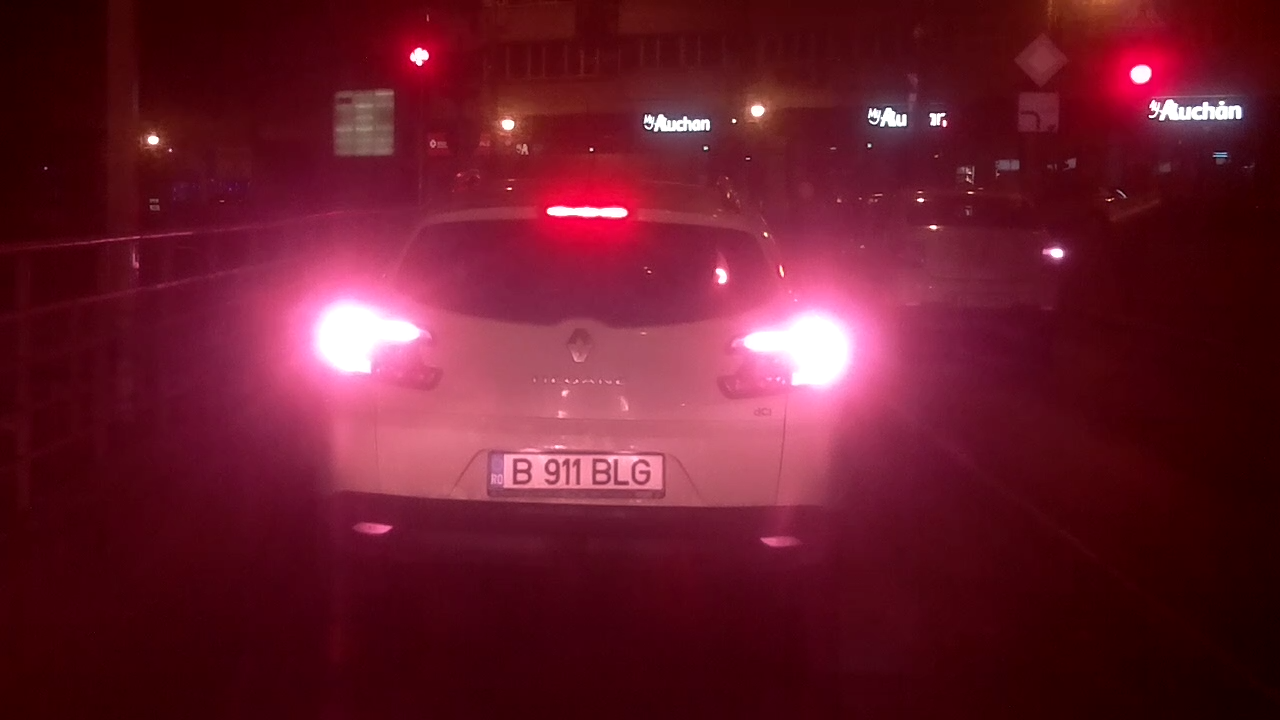license-plate: (483, 446, 671, 497)
